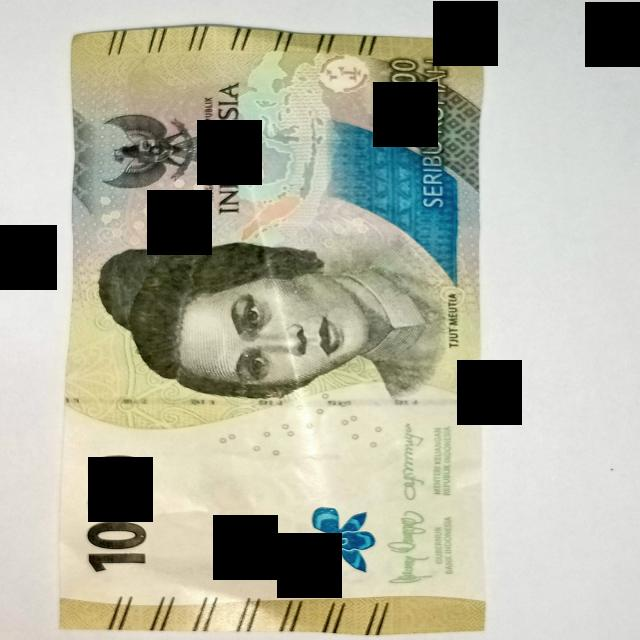seribu rupiah: (60, 25, 485, 635)
